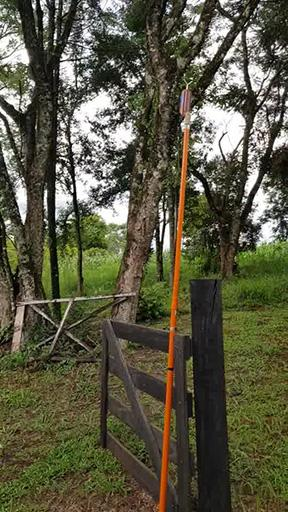Detector_Tensao_Contato: (179, 78, 193, 117)
Vara_Manobra: (158, 118, 192, 512)
